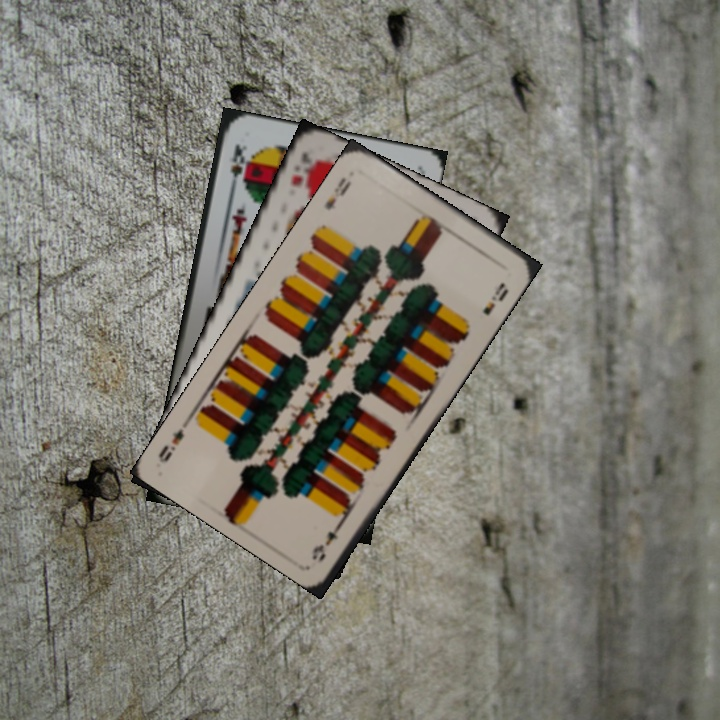E9: (308, 511, 350, 566), (320, 173, 354, 213)
HK: (286, 148, 321, 191)
SK: (225, 140, 250, 195)
